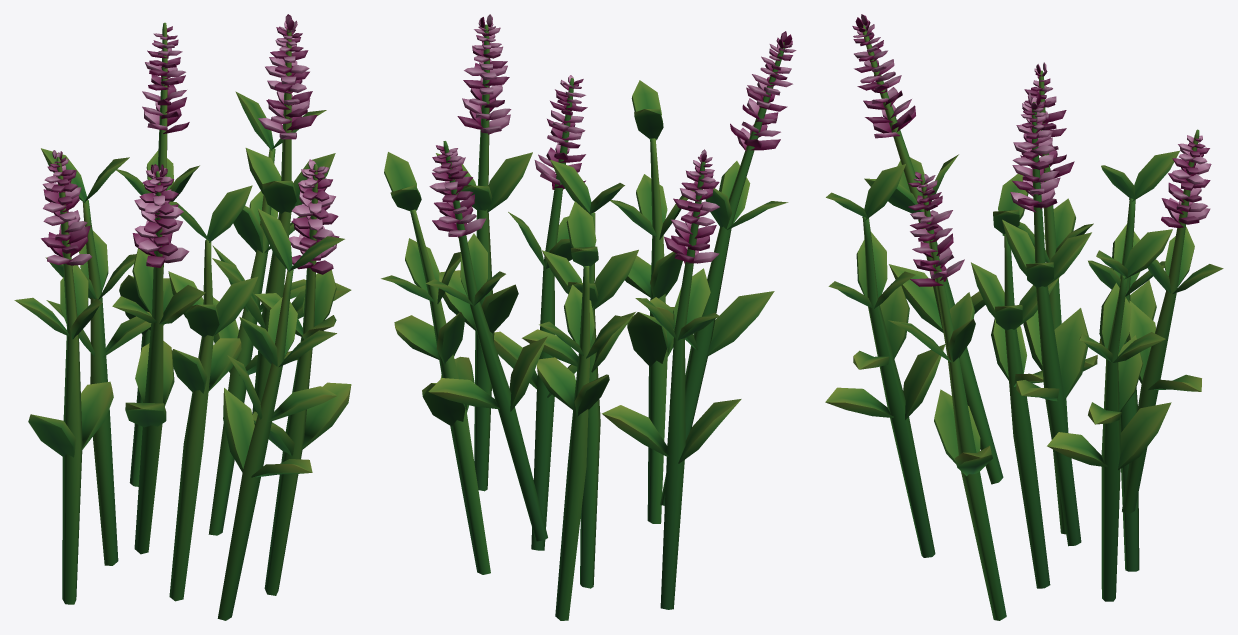
Rendered from SM_Plant_SweetBasil_Lv3.fbx.
3 views of the same model, side by side, from view 1: azimuth 30°, elevation 25°; view 2: azimuth 150°, elevation 25°; view 3: azimuth 270°, elevation 25° (orthographic). The views are drawn at different scales.
Visible parts, largest first — view 1: SM_Plant_SweetBasil_Lv3; view 2: SM_Plant_SweetBasil_Lv3; view 3: SM_Plant_SweetBasil_Lv3.
Part boxes in pixels (x1,y1,x2,y2): SM_Plant_SweetBasil_Lv3: [14, 14, 351, 620]; SM_Plant_SweetBasil_Lv3: [381, 14, 796, 620]; SM_Plant_SweetBasil_Lv3: [825, 14, 1223, 620].
Bounding box in the file's own units: 41.58 × 67.34 × 44.52.
